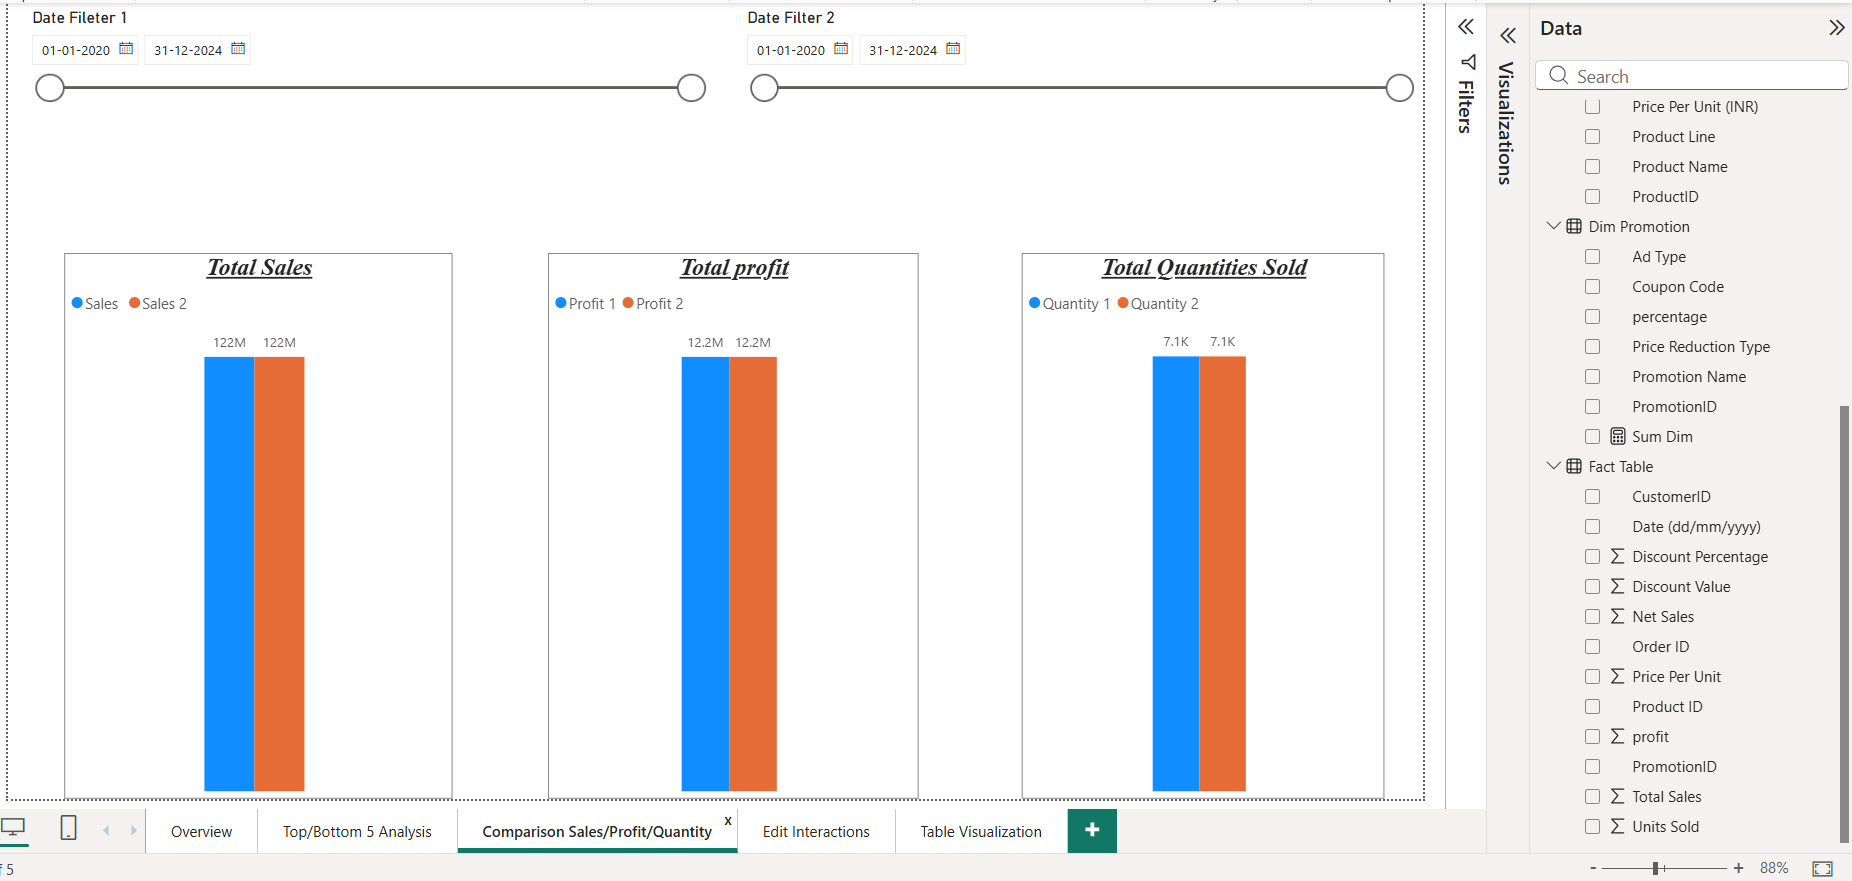

The page's visual inventory and layout, read from the dashboard file:
{"tool":"powerbi","page":{"name":"Comparison Sales/Profit/Quantity","canvas":[1280,720],"ordinal":2},"visuals":[{"type":"slicer","fields":{"Values":["Date Table 1.Date"]},"box":[9.6,0,629.8,174.3],"z":0},{"type":"slicer","fields":{"Values":["Date Table 2.Date"]},"box":[655.9,0,624.4,174.3],"z":1000},{"type":"clusteredColumnChart","title":"Total Sales","fields":{"Y":["Sum(Fact Table.Net Sales)","Date Table 1.Sum of Net Sales"]},"box":[50.8,226.4,351.3,494],"z":2000},{"type":"clusteredColumnChart","title":"Total profit","fields":{"Y":["Sum(Fact Table.profit)","Measures Table.Total Profit"]},"box":[488.5,226.4,334.8,494],"z":3000},{"type":"clusteredColumnChart","title":"Total Quantities Sold","fields":{"Y":["Measures Table.Quantity Sold","Sum(Fact Table.Units Sold)"]},"box":[916.6,226.4,328,494],"z":4000}]}

Visuals, with their boxes on the page's 1280x720 design canvas (x1, y1, x2, y2). These are canvas units, not pixel positions in the 1852x881 screenshot, which may show the page scaled, cropped or inside an application window:
slicer - Date Table 1.Date: (x1=10, y1=0, x2=639, y2=174)
slicer - Date Table 2.Date: (x1=656, y1=0, x2=1280, y2=174)
"Total Sales" clusteredColumnChart: (x1=51, y1=226, x2=402, y2=720)
"Total profit" clusteredColumnChart: (x1=488, y1=226, x2=823, y2=720)
"Total Quantities Sold" clusteredColumnChart: (x1=917, y1=226, x2=1245, y2=720)
